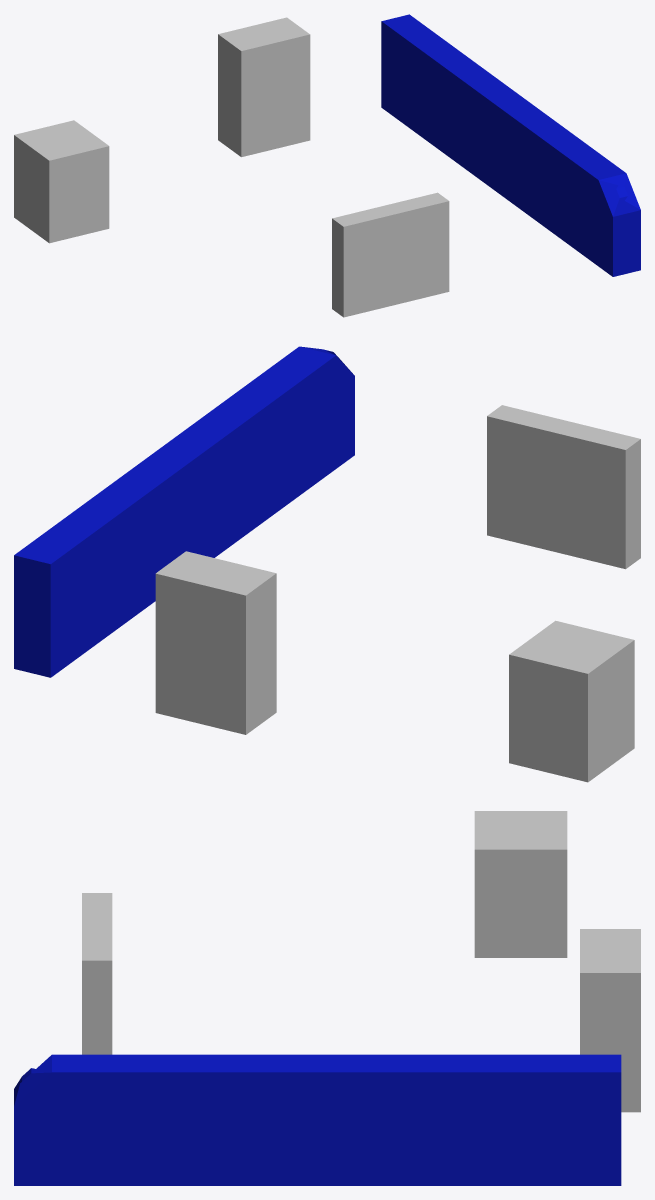
File: mapBasic.obj
3 renders of one model, top to bottom at view 1: azimuth 30°, elevation 25°; view 2: azimuth 150°, elevation 25°; view 3: azimuth 270°, elevation 25°, orthographic. The views are drawn at different scales.
Parts seen in each view (by area): view 1: Cube.004, Cube.002, Cube.001, Cube.003; view 2: Cube.004, Cube.002, Cube.001, Cube.003; view 3: Cube.004, Cube.003, Cube.001, Cube.002.
Part boxes in pixels (box(x1,y1,x2,y2)): Cube.004: box(381, 14, 640, 276); Cube.002: box(332, 192, 449, 317); Cube.001: box(218, 17, 310, 157); Cube.003: box(14, 120, 109, 243); Cube.004: box(14, 346, 354, 677); Cube.002: box(487, 405, 640, 569); Cube.001: box(155, 551, 276, 734); Cube.003: box(509, 620, 634, 782); Cube.004: box(14, 1054, 621, 1185); Cube.003: box(474, 811, 567, 957); Cube.001: box(580, 929, 640, 1112); Cube.002: box(82, 893, 112, 1054).
Size of what is drawn, in the model's own units: 5.38 by 1.31 by 5.35.
